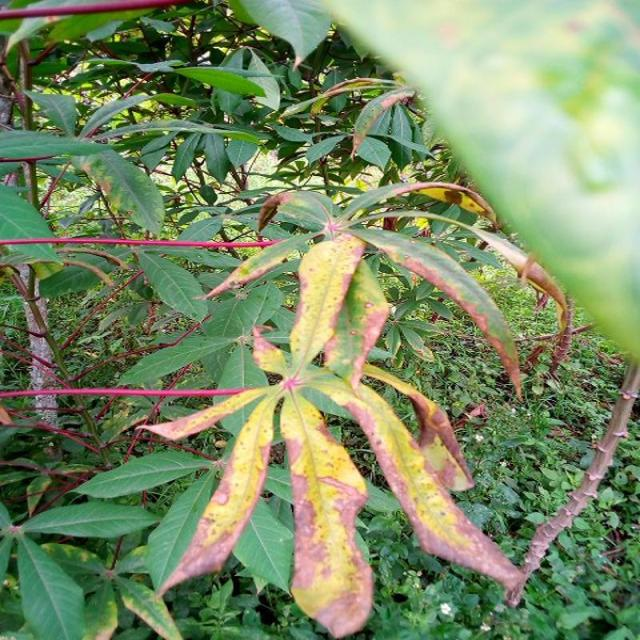cassava leaf: (136, 223, 526, 637)
